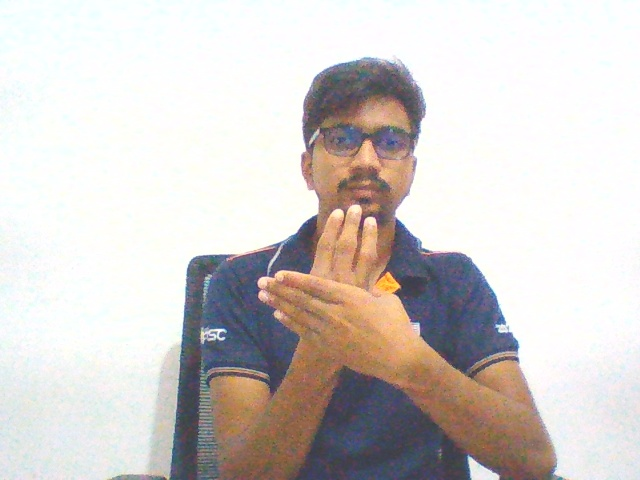tree: (253, 197, 419, 390)
